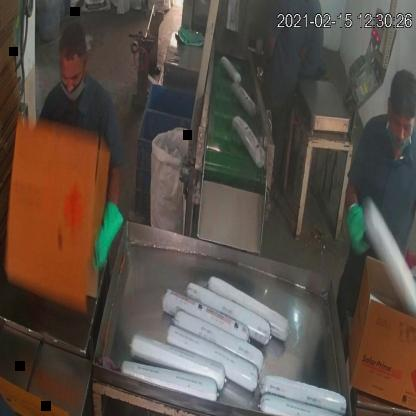glove: (80, 190, 134, 274), (343, 199, 377, 260), (410, 223, 416, 311)
